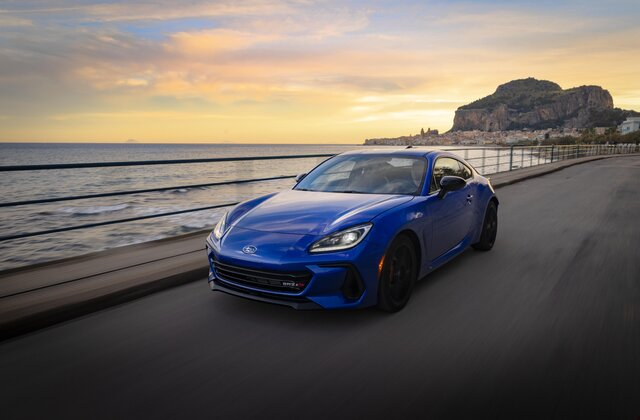car: (197, 142, 501, 320)
